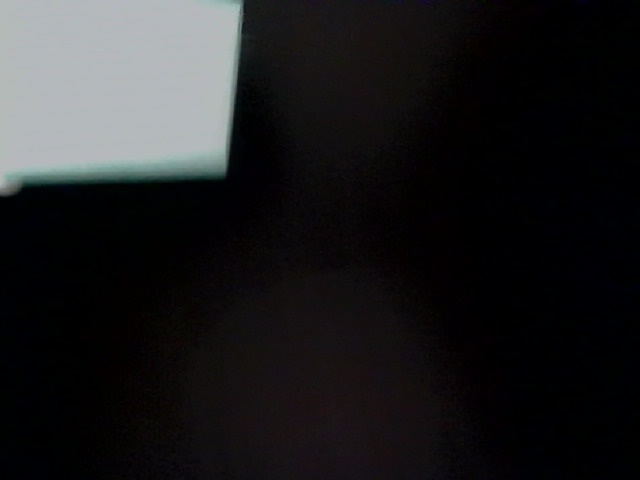CYLJ: (249, 406, 354, 480)
